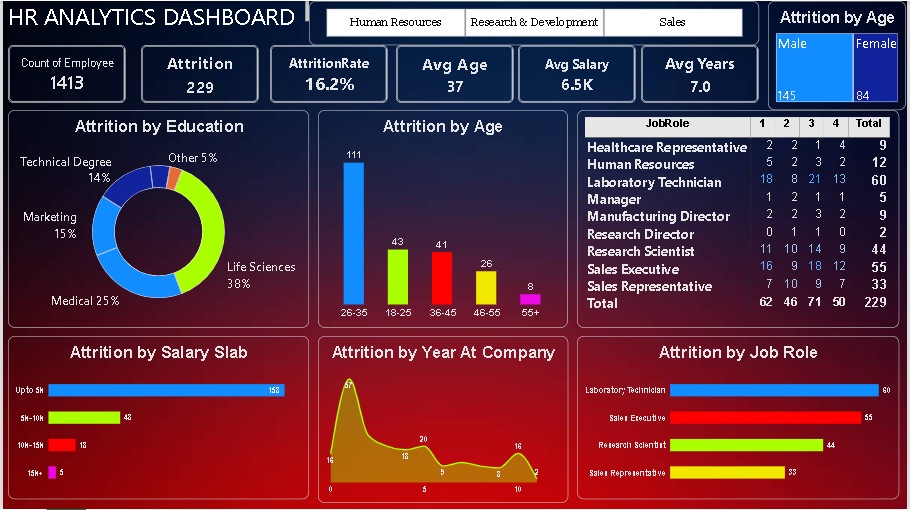

Layout of this report page (visuals, bound fields, positions):
{"tool":"powerbi","page":{"name":"Page 1","canvas":[1920,1080],"ordinal":0},"visuals":[{"type":"textbox","box":[10.6,0,639.9,53.1],"z":0},{"type":"cardVisual","fields":{"Data":["CountNonNull(HR_Analytics.EmpID)"]},"box":[10.6,93.5,250,123.3],"z":1000},{"type":"cardVisual","title":"sss","fields":{"Data":["Sum(HR_Analytics.AttritionCount)"]},"box":[293.4,93.5,250,123.3],"z":2000},{"type":"cardVisual","fields":{"Data":["HR_Analytics.AttritionRate"]},"box":[567.6,93.5,250,123.3],"z":3000},{"type":"cardVisual","fields":{"Data":["Avg(HR_Analytics.Age)"]},"box":[835.5,93.5,250,123.3],"z":4000},{"type":"cardVisual","fields":{"Data":["Avg(HR_Analytics.MonthlyIncome)"]},"box":[1094.9,93.5,250,123.3],"z":5000},{"type":"cardVisual","fields":{"Data":["Avg(HR_Analytics.YearsAtCompany)"]},"box":[1356.4,93.5,250,123.3],"z":6000},{"type":"donutChart","title":" Attrition by Education","fields":{"Category":["HR_Analytics.EducationField"],"Y":["Sum(HR_Analytics.AttritionCount)"]},"box":[10.6,231.7,639.9,463.5],"z":7000},{"type":"columnChart","title":" Attrition by Age","fields":{"Category":["HR_Analytics.AgeGroup"],"Y":["Sum(HR_Analytics.AttritionCount)"]},"box":[669.7,231.7,531.5,463.5],"z":8000},{"type":"pivotTable","fields":{"Columns":["HR_Analytics.JobSatisfaction"],"Rows":["HR_Analytics.JobRole"],"Values":["Sum(HR_Analytics.AttritionCount)"]},"box":[1220.3,231.7,684.6,463.5],"z":9000},{"type":"barChart","title":" Attrition by Salary Slab","fields":{"Category":["HR_Analytics.SalarySlab"],"Y":["Sum(HR_Analytics.AttritionCount)"]},"box":[10.6,712.2,639.9,346.5],"z":10000},{"type":"barChart","title":" Attrition by Job Role","fields":{"Category":["HR_Analytics.JobRole"],"Y":["Sum(HR_Analytics.AttritionCount)"]},"box":[1220.3,712.2,684.6,346.5],"z":11000},{"type":"areaChart","title":" Attrition by Year At Company","fields":{"Category":["HR_Analytics.YearsAtCompany"],"Y":["Sum(HR_Analytics.AttritionCount)"]},"box":[670.2,713.1,531.7,355.3],"z":12000},{"type":"treemap","title":" Attrition by Age","fields":{"Group":["HR_Analytics.Gender"],"Values":["Sum(HR_Analytics.AttritionCount)"]},"box":[1626.4,0,293.4,231.7],"z":13000},{"type":"slicer","fields":{"Values":["HR_Analytics.Department"]},"box":[650.6,0,956.7,93.5],"z":14000}]}

Visuals, with their boxes in screenshot pixels (x1, y1, x2, y2), scaled from the page's 1920x1080 canvas onto the 910x510 screenshot:
textbox: l=5, t=0, r=308, b=25
cardVisual - CountNonNull(HR_Analytics.EmpID): l=5, t=44, r=124, b=102
"sss" cardVisual: l=139, t=44, r=258, b=102
cardVisual - HR_Analytics.AttritionRate: l=269, t=44, r=388, b=102
cardVisual - Avg(HR_Analytics.Age): l=396, t=44, r=514, b=102
cardVisual - Avg(HR_Analytics.MonthlyIncome): l=519, t=44, r=637, b=102
cardVisual - Avg(HR_Analytics.YearsAtCompany): l=643, t=44, r=761, b=102
" Attrition by Education" donutChart: l=5, t=109, r=308, b=328
" Attrition by Age" columnChart: l=317, t=109, r=569, b=328
pivotTable - HR_Analytics.JobSatisfaction x HR_Analytics.JobRole: l=578, t=109, r=903, b=328
" Attrition by Salary Slab" barChart: l=5, t=336, r=308, b=500
" Attrition by Job Role" barChart: l=578, t=336, r=903, b=500
" Attrition by Year At Company" areaChart: l=318, t=337, r=570, b=505
" Attrition by Age" treemap: l=771, t=0, r=909, b=109
slicer - HR_Analytics.Department: l=308, t=0, r=762, b=44
